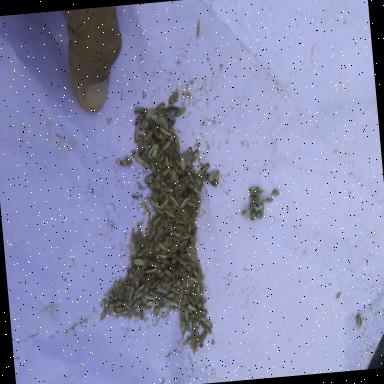pbw: (239, 206, 253, 222), (206, 170, 218, 188), (182, 148, 194, 166), (148, 141, 160, 158), (189, 148, 201, 164), (168, 238, 180, 254), (142, 278, 154, 294), (130, 297, 144, 310), (160, 114, 170, 132), (200, 320, 212, 334), (132, 150, 144, 164), (198, 330, 208, 346), (160, 139, 172, 152), (186, 166, 198, 179), (174, 106, 188, 117), (137, 134, 144, 156), (154, 225, 164, 240), (153, 300, 163, 315), (134, 284, 146, 296), (160, 166, 172, 178), (168, 91, 180, 103), (181, 271, 189, 289), (202, 316, 213, 329), (144, 292, 158, 302), (355, 313, 363, 330), (134, 113, 146, 124), (138, 245, 149, 257), (150, 276, 161, 288), (199, 163, 211, 174), (170, 285, 182, 296), (170, 170, 178, 186), (118, 158, 134, 166), (126, 286, 134, 302), (175, 136, 182, 154), (144, 172, 155, 183), (180, 320, 190, 332), (208, 170, 220, 180), (132, 258, 147, 266), (142, 130, 152, 142), (192, 207, 202, 219), (170, 254, 182, 264), (180, 196, 190, 208), (150, 199, 162, 209), (136, 234, 145, 247), (140, 116, 148, 130), (190, 320, 198, 334), (144, 268, 158, 276), (107, 290, 118, 300), (166, 111, 176, 122), (186, 303, 198, 312), (197, 260, 203, 278), (109, 300, 122, 308), (113, 306, 126, 314), (169, 229, 182, 237), (134, 125, 140, 142), (198, 296, 208, 306), (168, 299, 179, 308), (155, 103, 166, 112), (170, 195, 179, 206), (164, 209, 175, 218), (146, 300, 160, 307), (100, 307, 108, 319), (188, 294, 196, 306), (186, 274, 192, 290), (140, 304, 152, 312), (249, 186, 262, 193), (180, 156, 186, 171), (164, 268, 173, 278), (160, 198, 169, 208), (194, 270, 201, 282), (187, 170, 193, 184), (180, 284, 186, 298), (194, 192, 204, 200), (151, 290, 161, 298), (157, 280, 167, 288), (162, 128, 172, 136), (156, 154, 164, 164), (174, 156, 182, 166), (198, 308, 208, 316), (134, 292, 144, 300), (180, 299, 186, 312), (164, 154, 170, 166), (152, 114, 160, 123), (156, 253, 168, 259), (190, 312, 202, 318), (134, 107, 146, 113), (167, 106, 179, 112), (191, 226, 198, 236), (151, 163, 156, 177), (156, 132, 164, 140), (150, 260, 159, 267), (158, 287, 168, 293), (144, 161, 150, 171), (128, 274, 138, 280), (196, 284, 201, 296), (264, 197, 274, 203), (164, 240, 172, 247), (189, 276, 198, 282), (121, 310, 130, 316), (195, 336, 200, 346), (160, 262, 168, 268), (138, 272, 144, 280), (166, 292, 174, 298), (184, 307, 188, 319), (188, 181, 194, 188), (170, 132, 175, 140), (194, 186, 199, 194), (186, 261, 194, 266)
